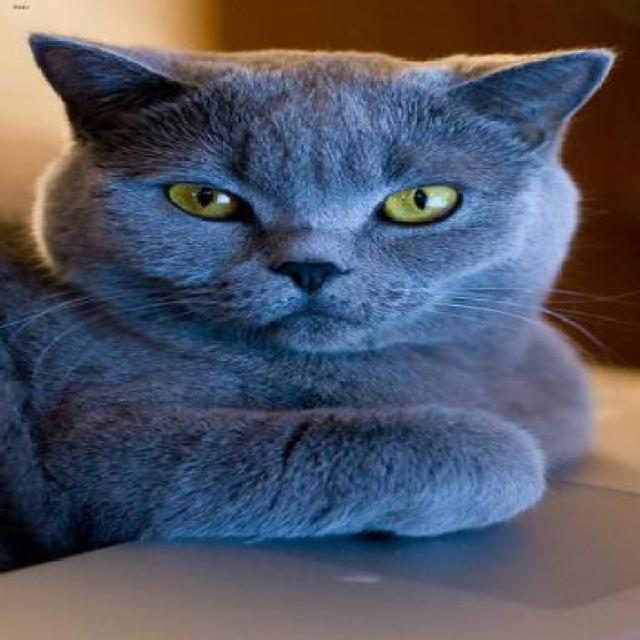cat: (0, 33, 614, 547)
